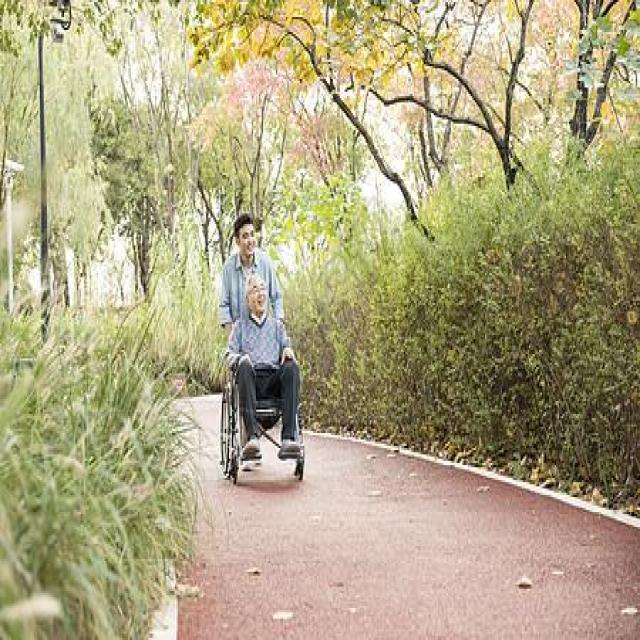wheelchairs: (216, 336, 310, 492)
